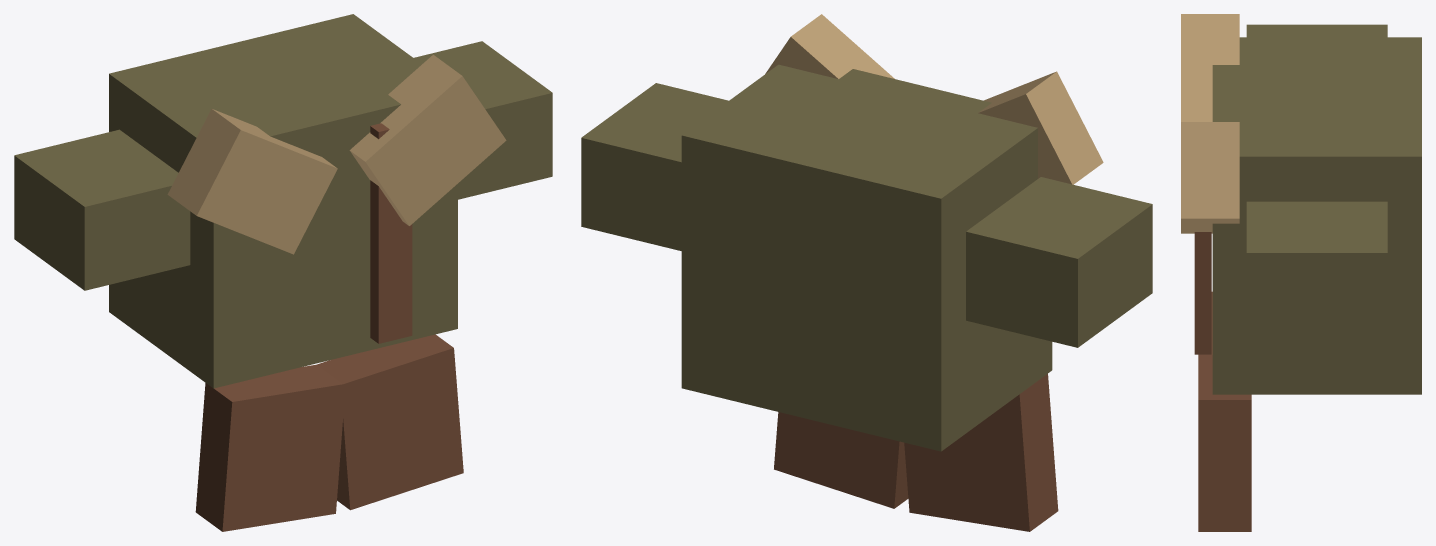
Rendered from fixed-leather-lod2.glb.
The picture shows the model from 3 angles, left to right: view 1: azimuth 30°, elevation 25°; view 2: azimuth 150°, elevation 25°; view 3: azimuth 270°, elevation 25°; orthographic projection. The views are drawn at different scales.
Parts seen in each view (by area): view 1: piece_torso, piece_waist, piece_armR, piece_armL; view 2: piece_torso, piece_armR, piece_waist, piece_armL; view 3: piece_torso, piece_armL, piece_waist, piece_armR.
Boxes of the visible parts, x1,y1,x2,y2 form: piece_torso: (109, 14, 506, 388); piece_waist: (195, 334, 463, 531); piece_armR: (14, 129, 190, 290); piece_armL: (414, 41, 552, 199); piece_torso: (681, 14, 1103, 451); piece_armR: (966, 177, 1152, 347); piece_waist: (774, 374, 1058, 531); piece_armL: (581, 83, 728, 250); piece_torso: (1181, 14, 1421, 394); piece_armL: (1246, 201, 1387, 336); piece_waist: (1198, 291, 1251, 531); piece_armR: (1246, 24, 1387, 37).
Bounding box in the file's own units: 1.11 × 0.9411 × 0.495.
